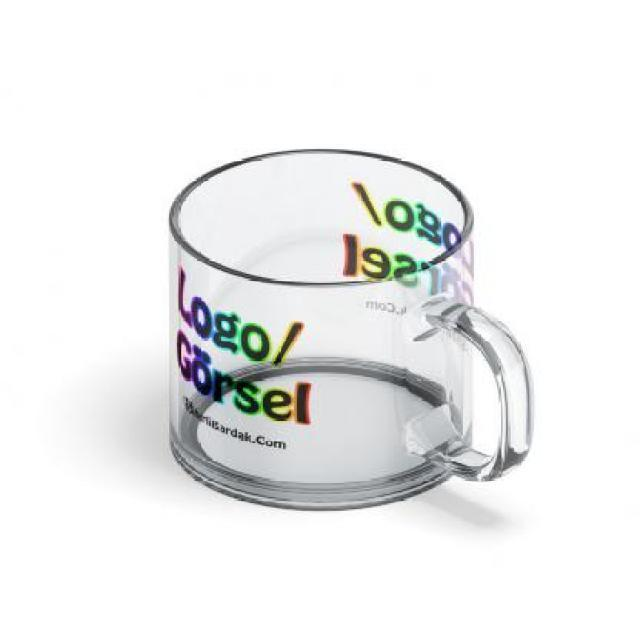taza: (166, 146, 534, 514)
